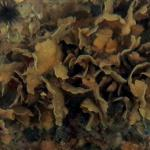alive: (1, 1, 147, 148)
